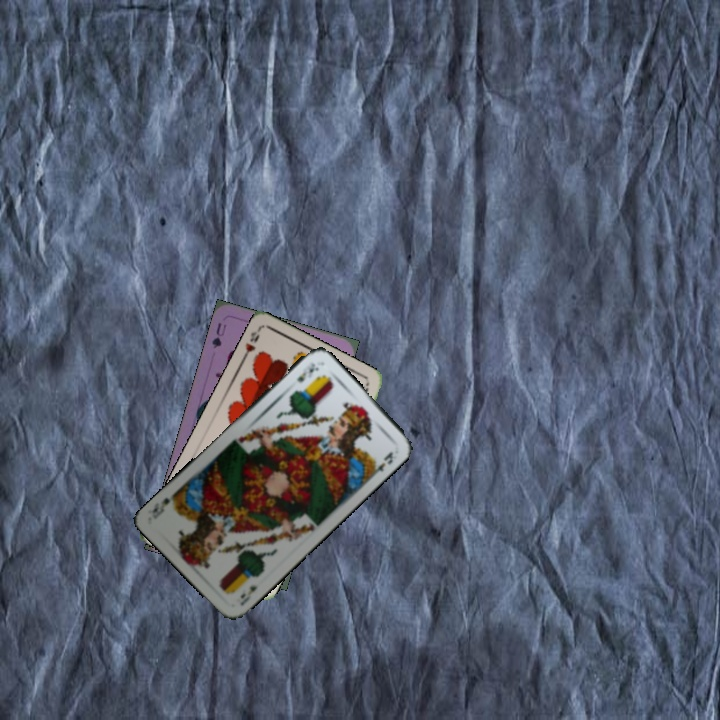EK: (293, 359, 320, 385), (236, 581, 260, 608)
GU: (208, 319, 229, 351)
H9: (238, 325, 263, 363)
